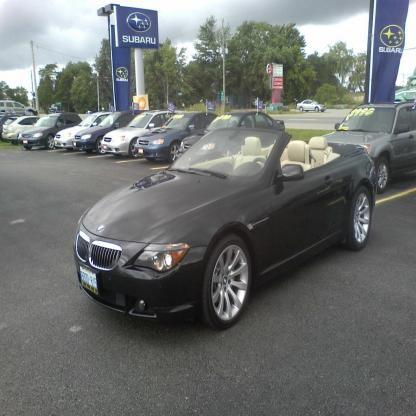Vehicle: (76, 127, 379, 327)
